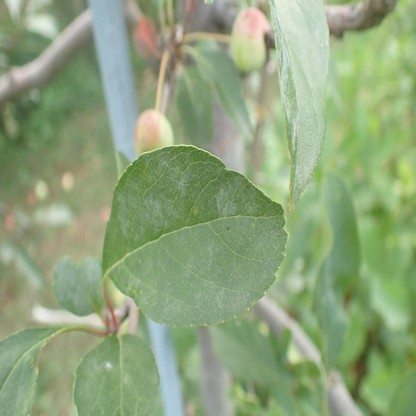powder: (127, 243, 248, 312), (118, 154, 188, 238), (271, 3, 290, 118), (217, 175, 259, 218), (80, 353, 112, 395), (296, 164, 309, 190), (293, 112, 298, 145)
